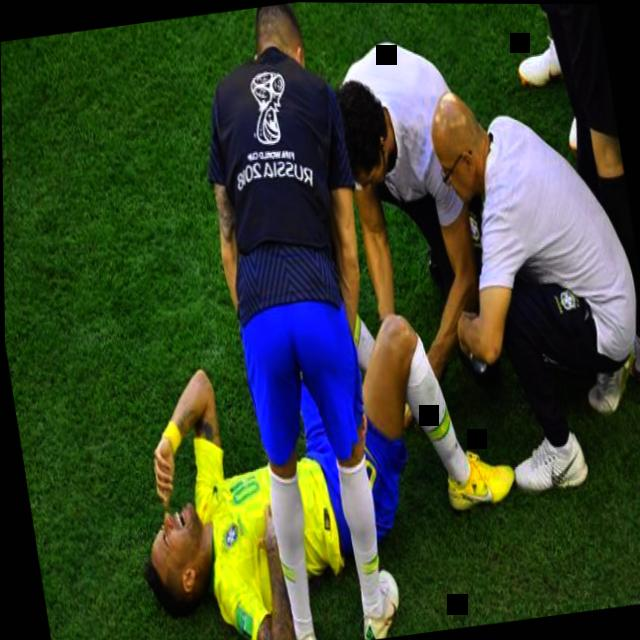Fall-Detected: (79, 295, 546, 640)
